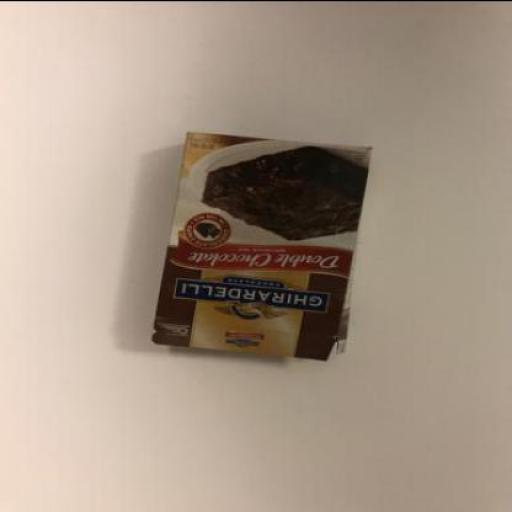cardboard: (150, 132, 374, 362)
paper: (148, 131, 376, 360)
